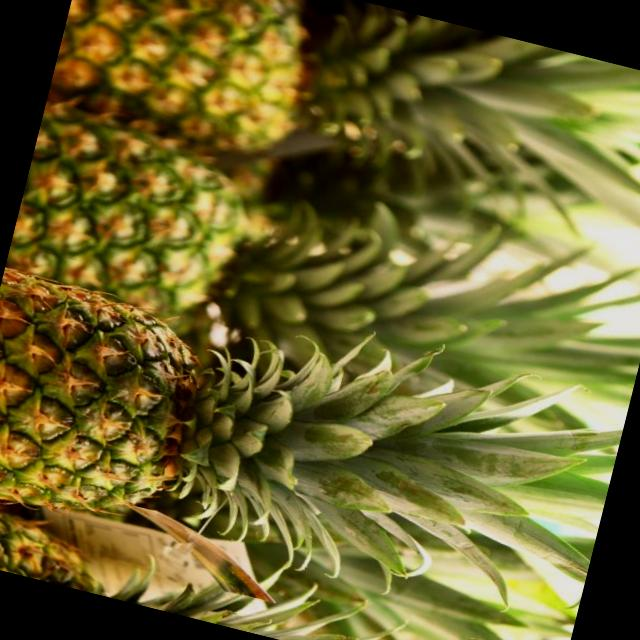pineapple: (0, 271, 310, 568), (2, 110, 352, 348), (43, 0, 387, 182)
